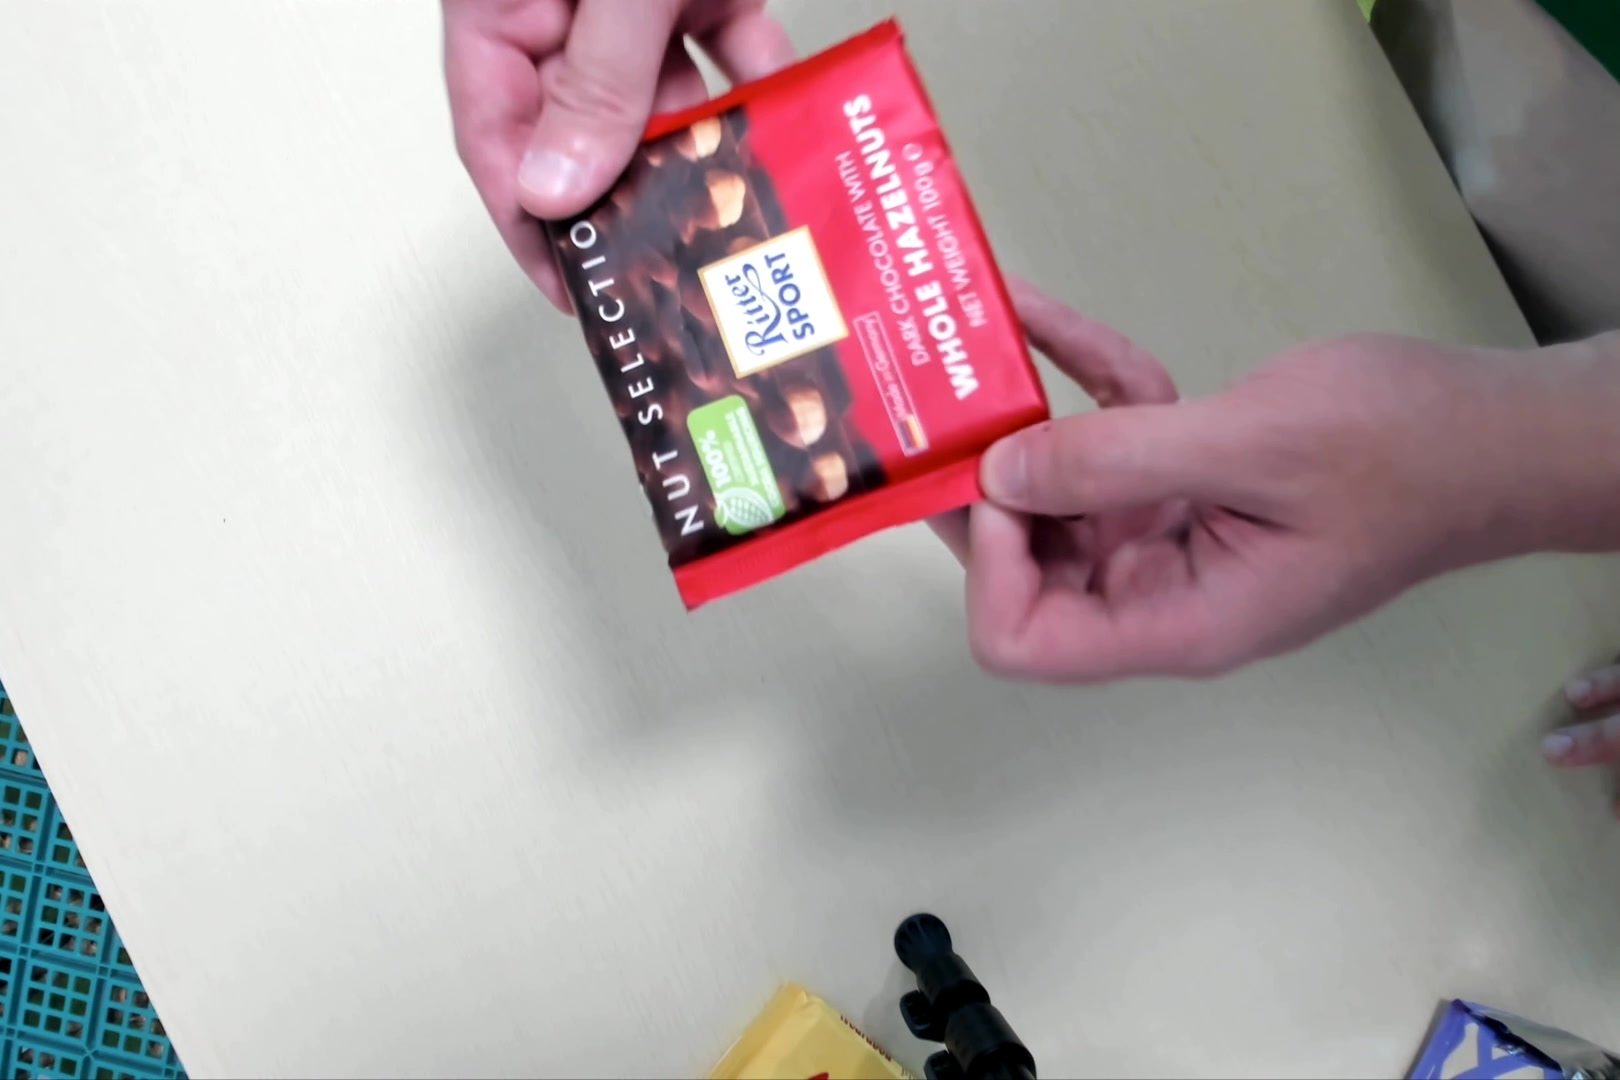SweetsChocolatesOthers_100-199g_NonHalal_NonHealthy: (520, 19, 1066, 606)
